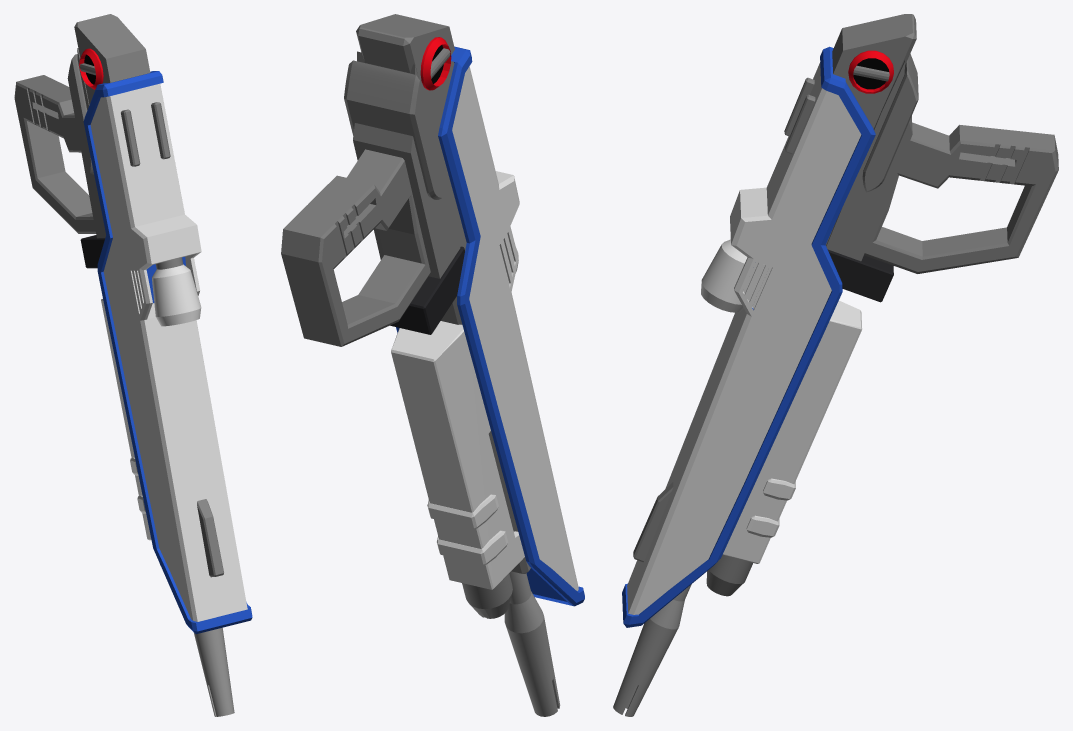
The model's file is leftHandGun.obj.
The picture shows the model from 3 angles, left to right: view 1: azimuth 30°, elevation 25°; view 2: azimuth 150°, elevation 25°; view 3: azimuth 270°, elevation 25°; orthographic projection. The views are drawn at different scales.
Visible parts, largest first — view 1: leftHandGun freedom:ChafCaja985, leftHandGun freedom:transform3, leftHandGun freedom:ChafCaja979, leftHandGun freedom:Cilindro29, leftHandGun freedom:Cilindro33, leftHandGun freedom:transform2, leftHandGun freedom:ChafCaja984, leftHandGun freedom:Caja418, leftHandGun freedom:ChafCaja981, leftHandGun freedom:Cilindro34, leftHandGun freedom:ChafCaja40, leftHandGun freedom:ChafCaja39 (+1 smaller); view 2: leftHandGun freedom:ChafCaja985, leftHandGun freedom:transform3, leftHandGun freedom:ChafCaja981, leftHandGun freedom:ChafCaja979, leftHandGun freedom:transform2, leftHandGun freedom:Caja418, leftHandGun freedom:Cilindro33, leftHandGun freedom:ChafCaja980, leftHandGun freedom:Cilindro12, leftHandGun freedom:ChafCaja983, leftHandGun freedom:ChafCaja982, leftHandGun freedom:Cilindro34; view 3: leftHandGun freedom:ChafCaja985, leftHandGun freedom:transform3, leftHandGun freedom:ChafCaja981, leftHandGun freedom:ChafCaja979, leftHandGun freedom:Caja418, leftHandGun freedom:Cilindro33, leftHandGun freedom:transform2, leftHandGun freedom:Cilindro29, leftHandGun freedom:ChafCaja980, leftHandGun freedom:Cilindro12, leftHandGun freedom:Cilindro34, leftHandGun freedom:ChafCaja984.
Part boxes in pixels (x1,y1,x2,y2): leftHandGun freedom:ChafCaja985: (83,71,252,634); leftHandGun freedom:transform3: (14,75,95,233); leftHandGun freedom:ChafCaja979: (74,14,150,104); leftHandGun freedom:Cilindro29: (152,264,201,326); leftHandGun freedom:Cilindro33: (193,627,234,716); leftHandGun freedom:transform2: (67,54,93,174); leftHandGun freedom:ChafCaja984: (197,499,223,577); leftHandGun freedom:Caja418: (77,48,105,238); leftHandGun freedom:ChafCaja981: (101,298,151,540); leftHandGun freedom:Cilindro34: (79,48,103,89); leftHandGun freedom:ChafCaja40: (151,102,170,159); leftHandGun freedom:ChafCaja39: (121,109,140,166); leftHandGun freedom:ChafCaja985: (396,46,584,606); leftHandGun freedom:transform3: (281,149,430,346); leftHandGun freedom:ChafCaja981: (391,321,524,589); leftHandGun freedom:ChafCaja979: (356,14,530,573); leftHandGun freedom:transform2: (344,60,443,199); leftHandGun freedom:Caja418: (353,51,460,278); leftHandGun freedom:Cilindro33: (504,571,560,716); leftHandGun freedom:ChafCaja980: (390,246,464,334); leftHandGun freedom:Cilindro12: (462,573,512,618); leftHandGun freedom:ChafCaja983: (427,494,498,528); leftHandGun freedom:ChafCaja982: (437,530,508,564); leftHandGun freedom:Cilindro34: (420,37,451,90); leftHandGun freedom:ChafCaja985: (622,46,875,627); leftHandGun freedom:transform3: (864,122,1058,273); leftHandGun freedom:ChafCaja981: (723,300,862,563); leftHandGun freedom:ChafCaja979: (826,14,916,245); leftHandGun freedom:Caja418: (826,60,912,261); leftHandGun freedom:Cilindro33: (613,584,691,716); leftHandGun freedom:transform2: (862,54,918,192); leftHandGun freedom:Cilindro29: (701,239,747,312); leftHandGun freedom:ChafCaja980: (827,249,893,302); leftHandGun freedom:Cilindro12: (706,555,752,596); leftHandGun freedom:Cilindro34: (848,50,893,93); leftHandGun freedom:ChafCaja984: (633,482,673,562).
Bounding box in the file's own units: 5.52 × 51.18 × 30.
